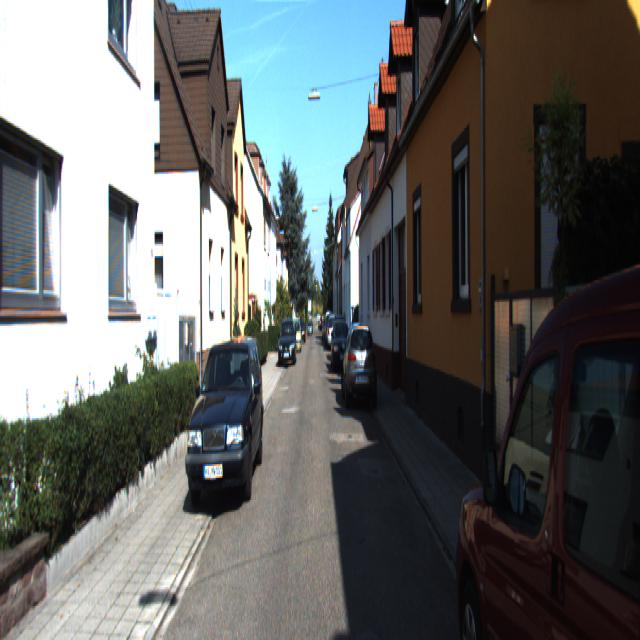Car: (454, 208, 640, 638), (185, 325, 265, 515), (342, 320, 376, 412), (332, 318, 353, 376), (278, 315, 296, 366)
